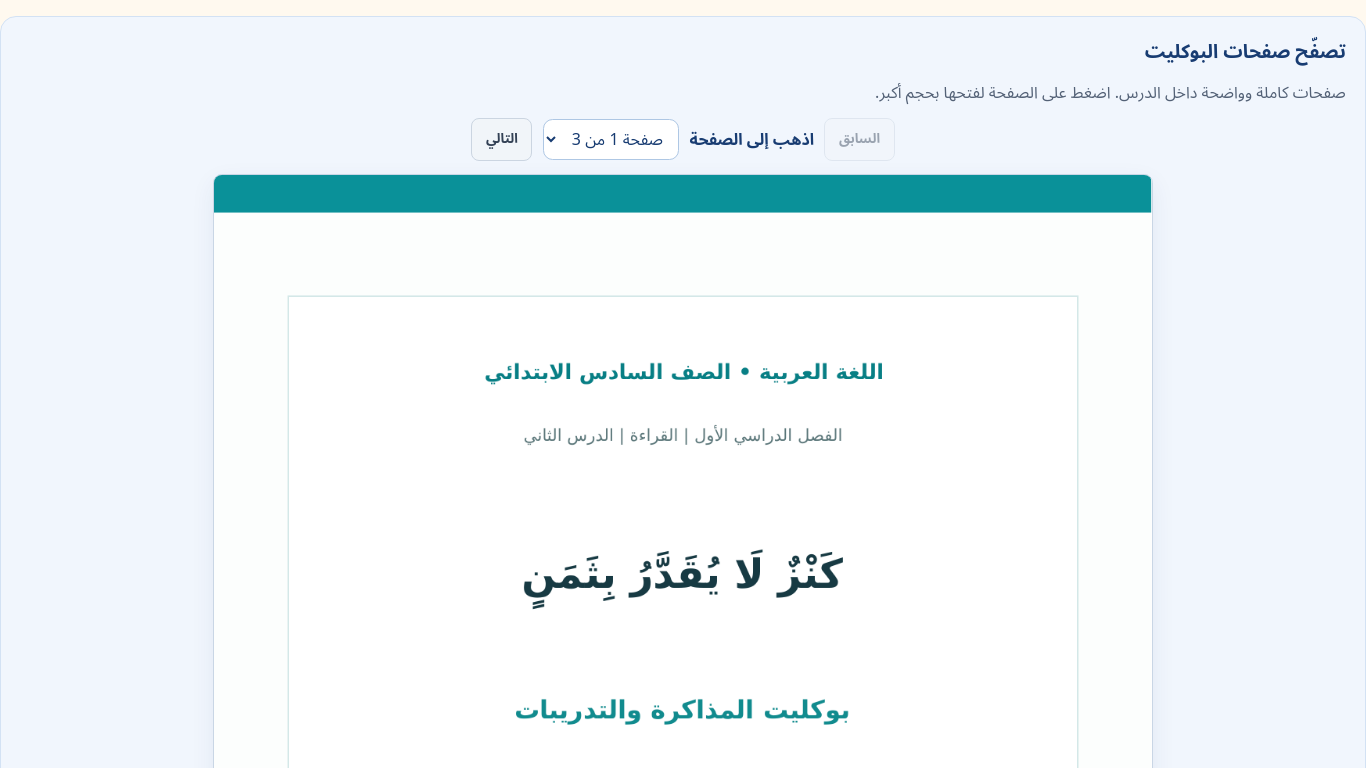
Test case: معاينة صفحات البوكليت › يعرض الصفحة الأولى ويبدّل الصفحات بزر التالي والسابق والقائمة
This screenshot has width=1366, height=768.
Expected: the button "السابق" is disabled, [824, 118, 895, 161]
Click the button "التالي" at (502, 140), box [471, 118, 532, 161]
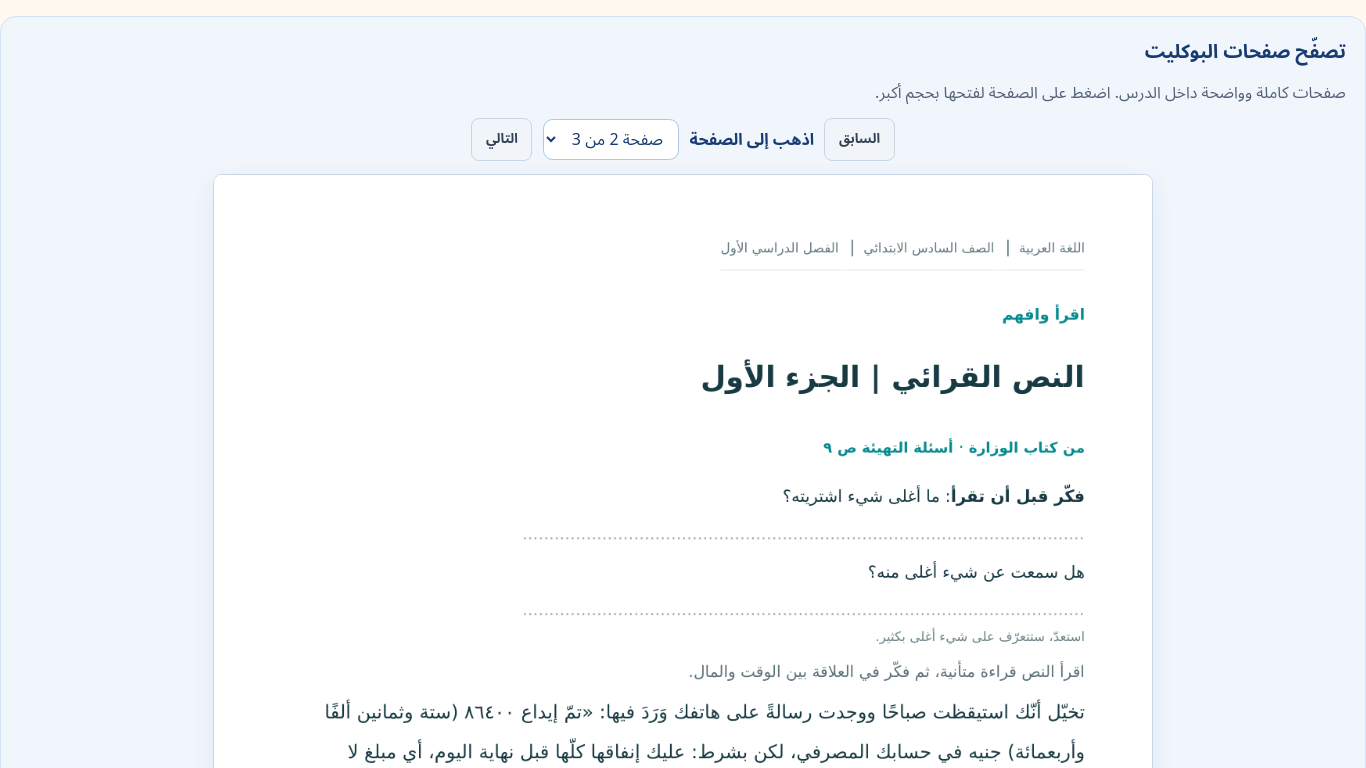
Select "صفحة 3 من 3" in the dropdown named "اختر صفحة من البوكليت" at (611, 140), box [543, 119, 679, 160]
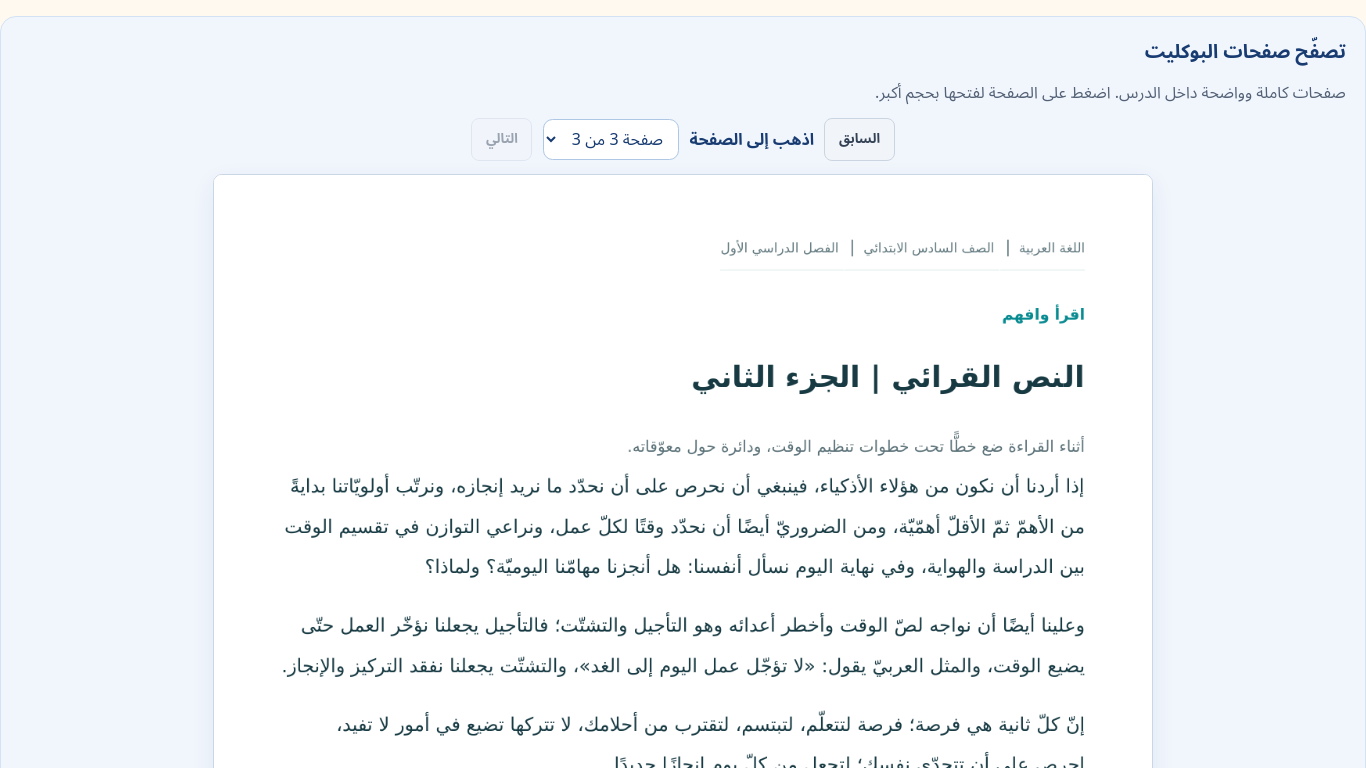
Now the button "التالي" is disabled, box [471, 118, 532, 161]
